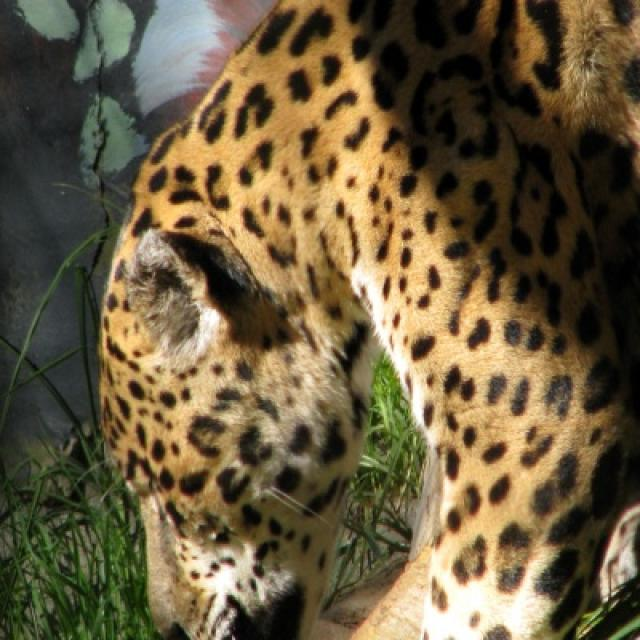Jaguar: (93, 0, 638, 638)
